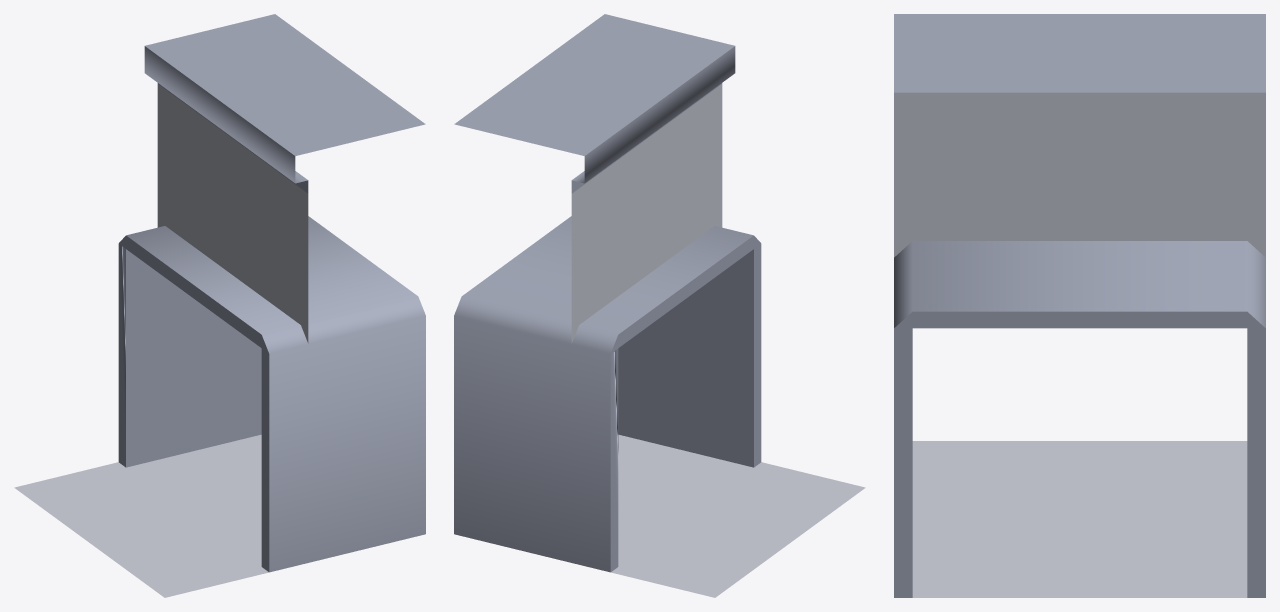
Rendered from structure-doorway-wide.fbx.
3 renders of one model, left to right at view 1: azimuth 30°, elevation 25°; view 2: azimuth 150°, elevation 25°; view 3: azimuth 270°, elevation 25°, orthographic. The views are drawn at different scales.
Parts seen in each view (by area): view 1: structure-doorway-wide; view 2: structure-doorway-wide; view 3: structure-doorway-wide.
Part boxes in pixels (x1,y1,x2,y2): structure-doorway-wide: [14, 14, 425, 597]; structure-doorway-wide: [454, 14, 865, 597]; structure-doorway-wide: [894, 14, 1265, 597].
Bounding box in the file's own units: 200 × 300 × 200.
